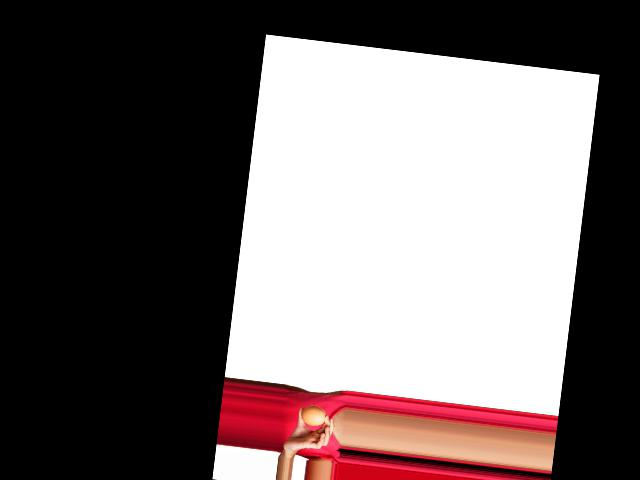egg: (300, 404, 327, 427)
